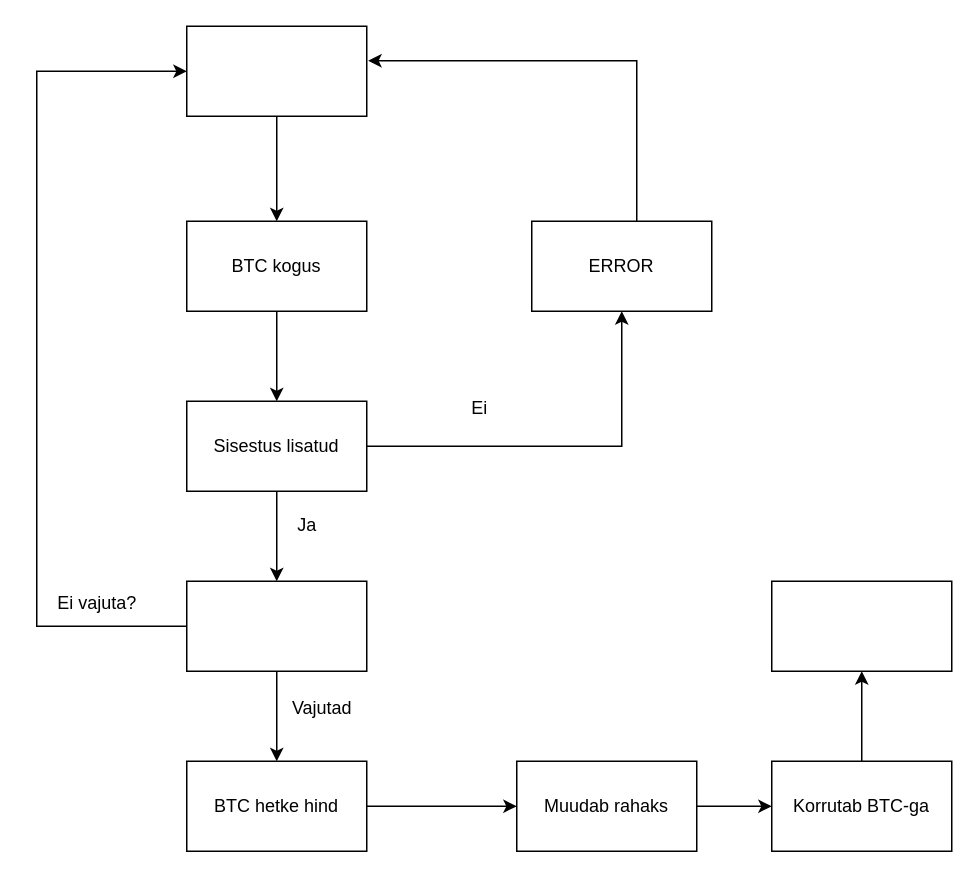
Some shapes in this 978 by 878 pixel diagram are drawn without their labels. The shapes that lost their labels are listed below. From the top down, each one's box as (x1, y1, x2, y2) in pixels, then its label:
(185, 25, 367, 116): Algus
(185, 580, 367, 671): Get rates
(770, 580, 952, 671): Tulemus
